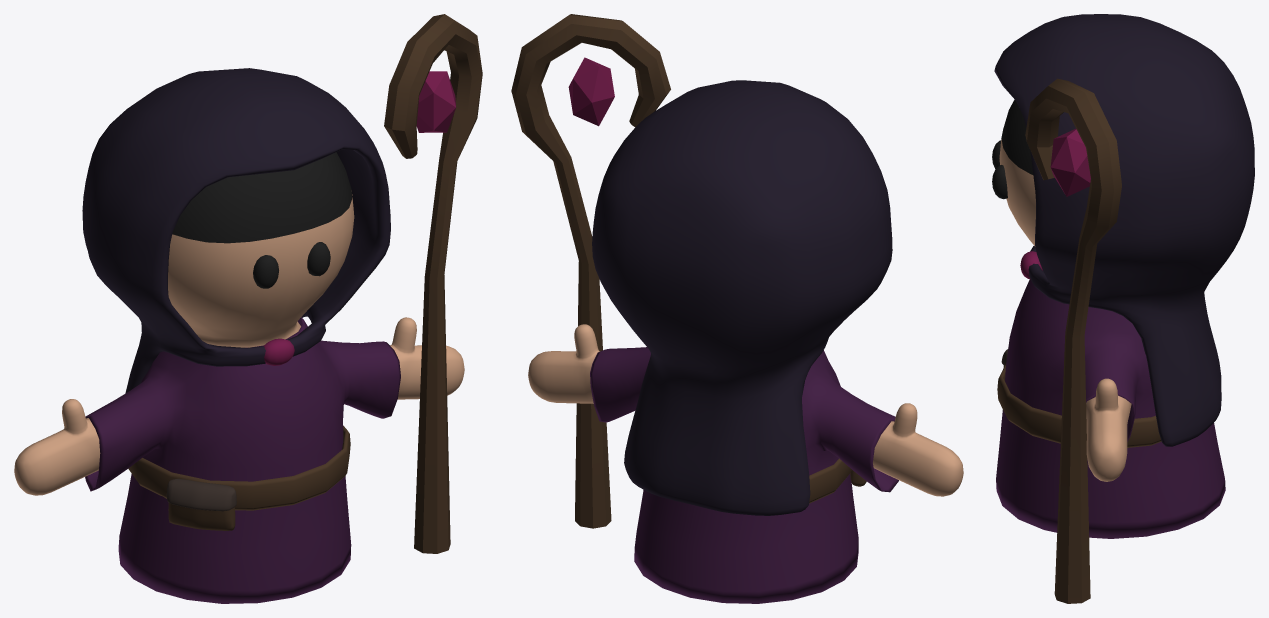
File: character_uv_Apose.fbx
3 views of the same model, side by side, from view 1: azimuth 30°, elevation 25°; view 2: azimuth 150°, elevation 25°; view 3: azimuth 270°, elevation 25° (orthographic). The views are drawn at different scales.
Visible parts, largest first — view 1: Character_model:Dress, Character_model:Cloak, Character_model:Base_Character, Character_model:Staff, Character_model:Belt, Character_model:Pouch, Character_model:Eye_L, Character_model:Gem, Character_model:Eye_R; view 2: Character_model:Cloak, Character_model:Dress, Character_model:Staff, Character_model:Base_Character, Character_model:Belt; view 3: Character_model:Cloak, Character_model:Dress, Character_model:Staff, Character_model:Base_Character, Character_model:Belt, Character_model:Eye_R.
Boxes of the visible parts, x1,y1,x2,y2 form: Character_model:Dress: (85,317,400,603); Character_model:Cloak: (82,68,390,393); Character_model:Base_Character: (14,152,464,495); Character_model:Staff: (384,14,482,553); Character_model:Belt: (128,425,350,510); Character_model:Pouch: (166,478,236,530); Character_model:Eye_L: (253,255,278,288); Character_model:Gem: (263,338,294,365); Character_model:Eye_R: (307,242,330,276); Character_model:Cloak: (592,80,892,515); Character_model:Dress: (590,347,898,603); Character_model:Staff: (511,14,670,528); Character_model:Base_Character: (528,324,963,496); Character_model:Belt: (809,458,852,503); Character_model:Cloak: (994,14,1254,446); Character_model:Dress: (996,270,1225,538); Character_model:Staff: (1025,78,1121,603); Character_model:Base_Character: (999,99,1131,481); Character_model:Belt: (997,363,1161,447); Character_model:Eye_R: (992,165,1007,199).
Size of the model in its own units: 94.46 by 102 by 47.36.
